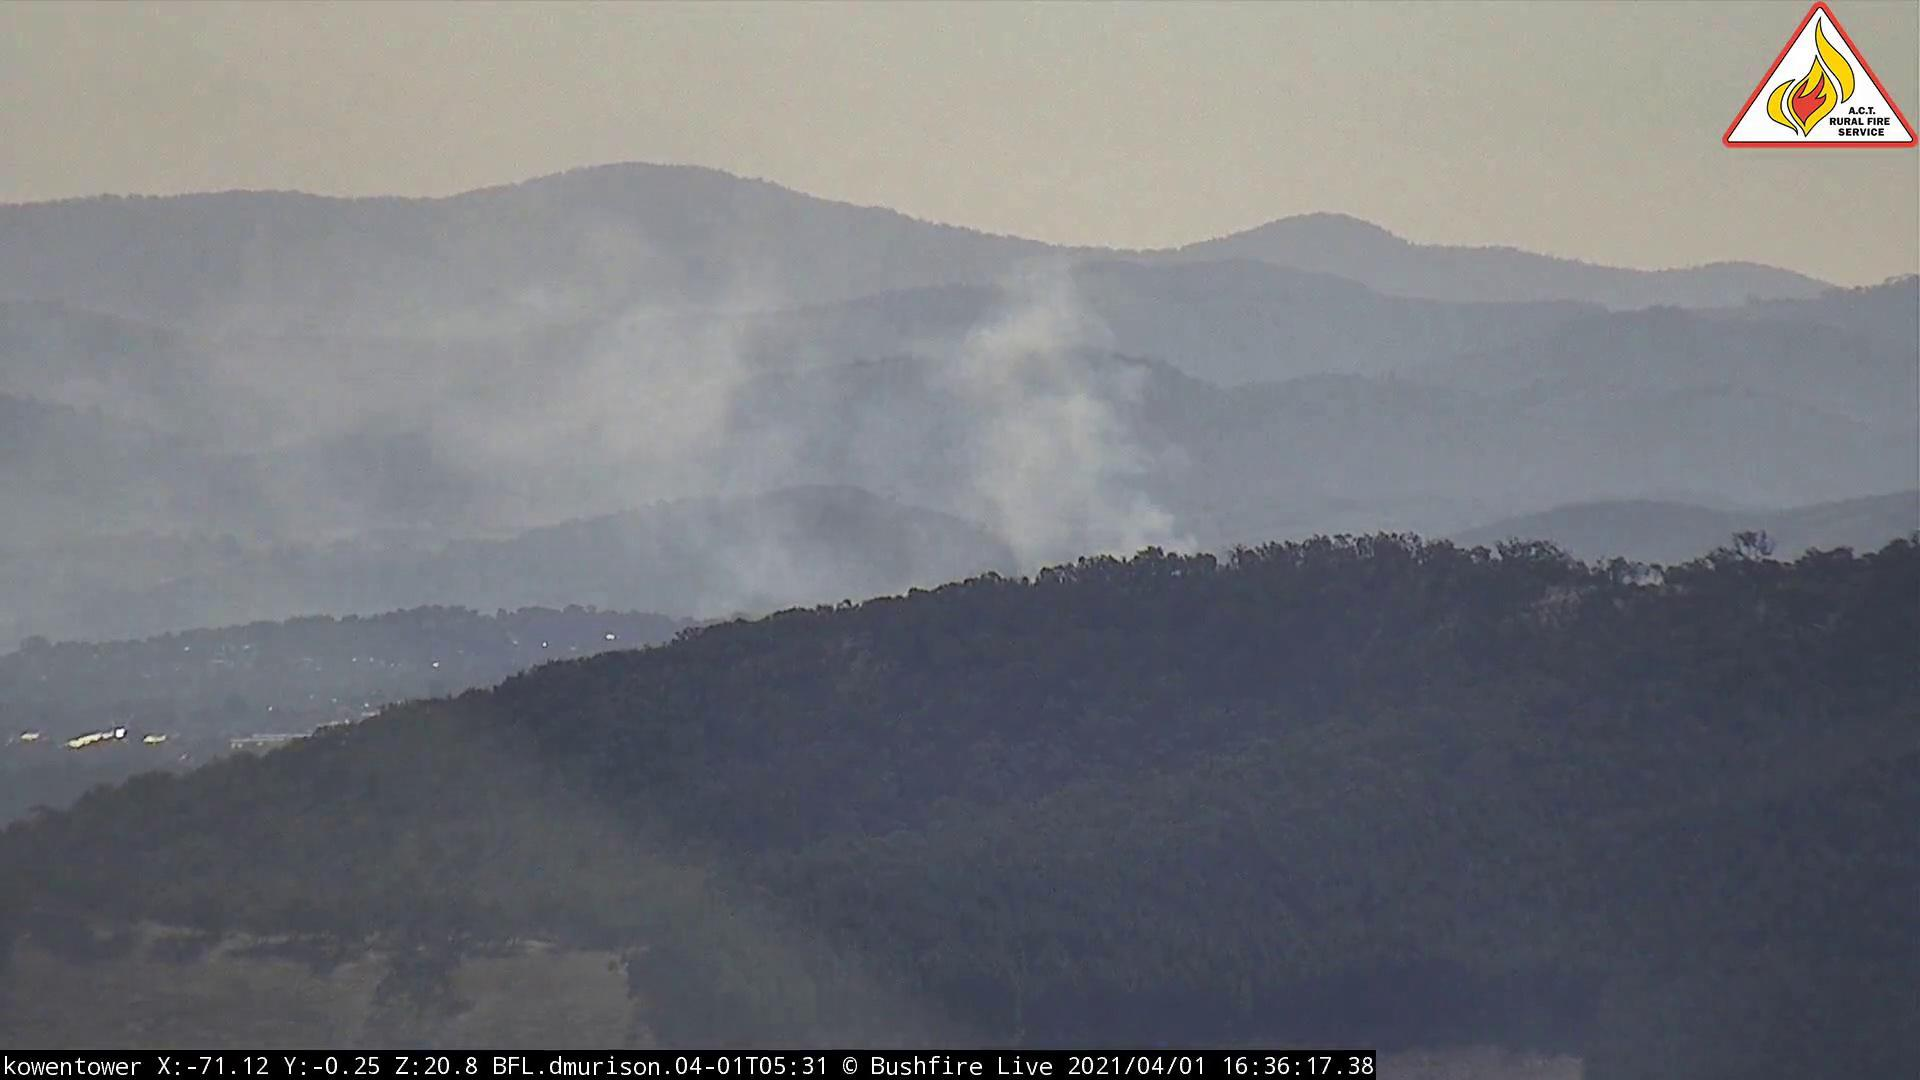instance_salient_object: (247, 215, 1234, 662)
